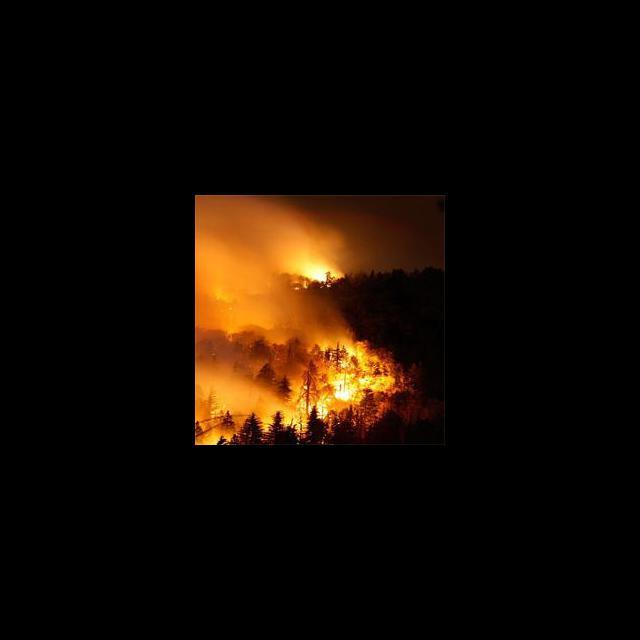Fire: (326, 362, 386, 402), (302, 259, 338, 284), (304, 398, 326, 420)
